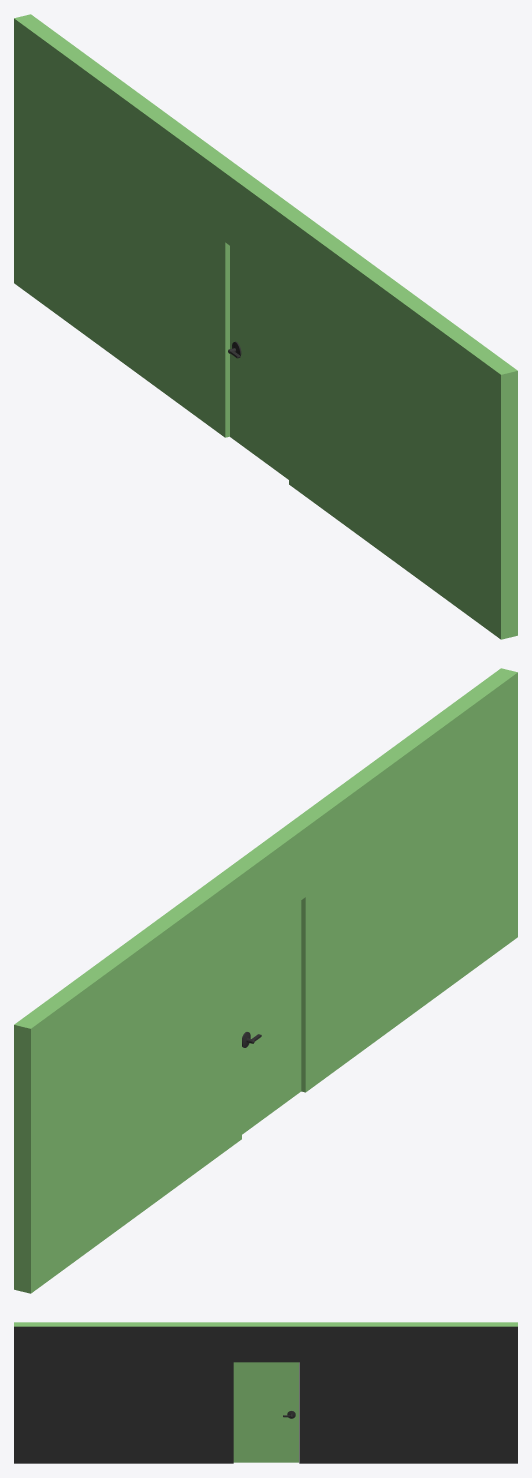
Rendered from Wall_10m_3m_door.fbx.
3 renders of one model, top to bottom at view 1: azimuth 30°, elevation 25°; view 2: azimuth 150°, elevation 25°; view 3: azimuth 270°, elevation 25°, orthographic. The views are drawn at different scales.
Visible parts, largest first — view 1: Wall_10m_3m_door, Door; view 2: Wall_10m_3m_door, Door; view 3: Wall_10m_3m_door, Door.
Part boxes in pixels (x1,y1,x2,y2): Wall_10m_3m_door: (14,14,517,639); Door: (228,246,288,479); Wall_10m_3m_door: (14,668,517,1293); Door: (242,900,301,1134); Wall_10m_3m_door: (14,1322,517,1463); Door: (233,1362,298,1462).
Size of the model in its own units: 31.19 by 300 by 1000.
